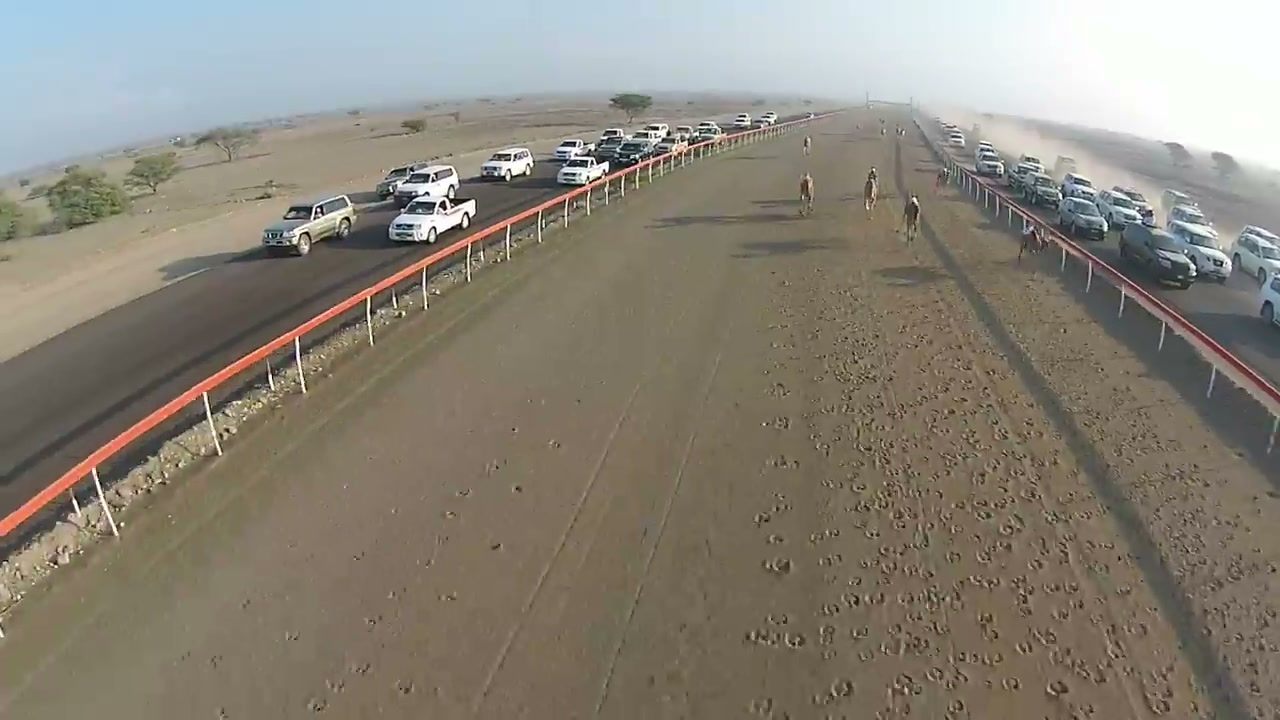animal_foot_print: (888, 253, 1113, 678), (811, 282, 997, 695), (728, 207, 819, 706)
